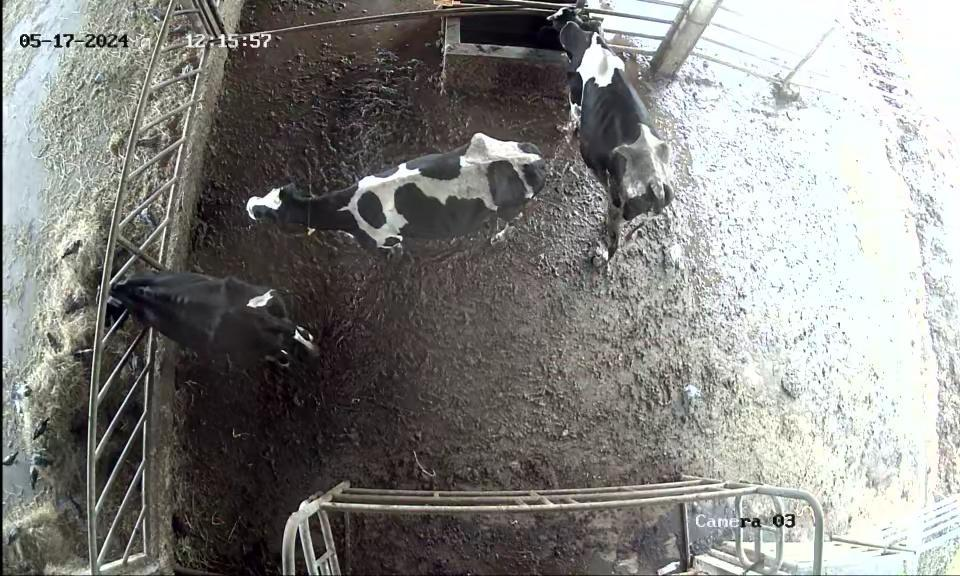drink: (527, 4, 621, 108)
eat: (72, 258, 182, 335)
stand: (224, 113, 562, 267)
